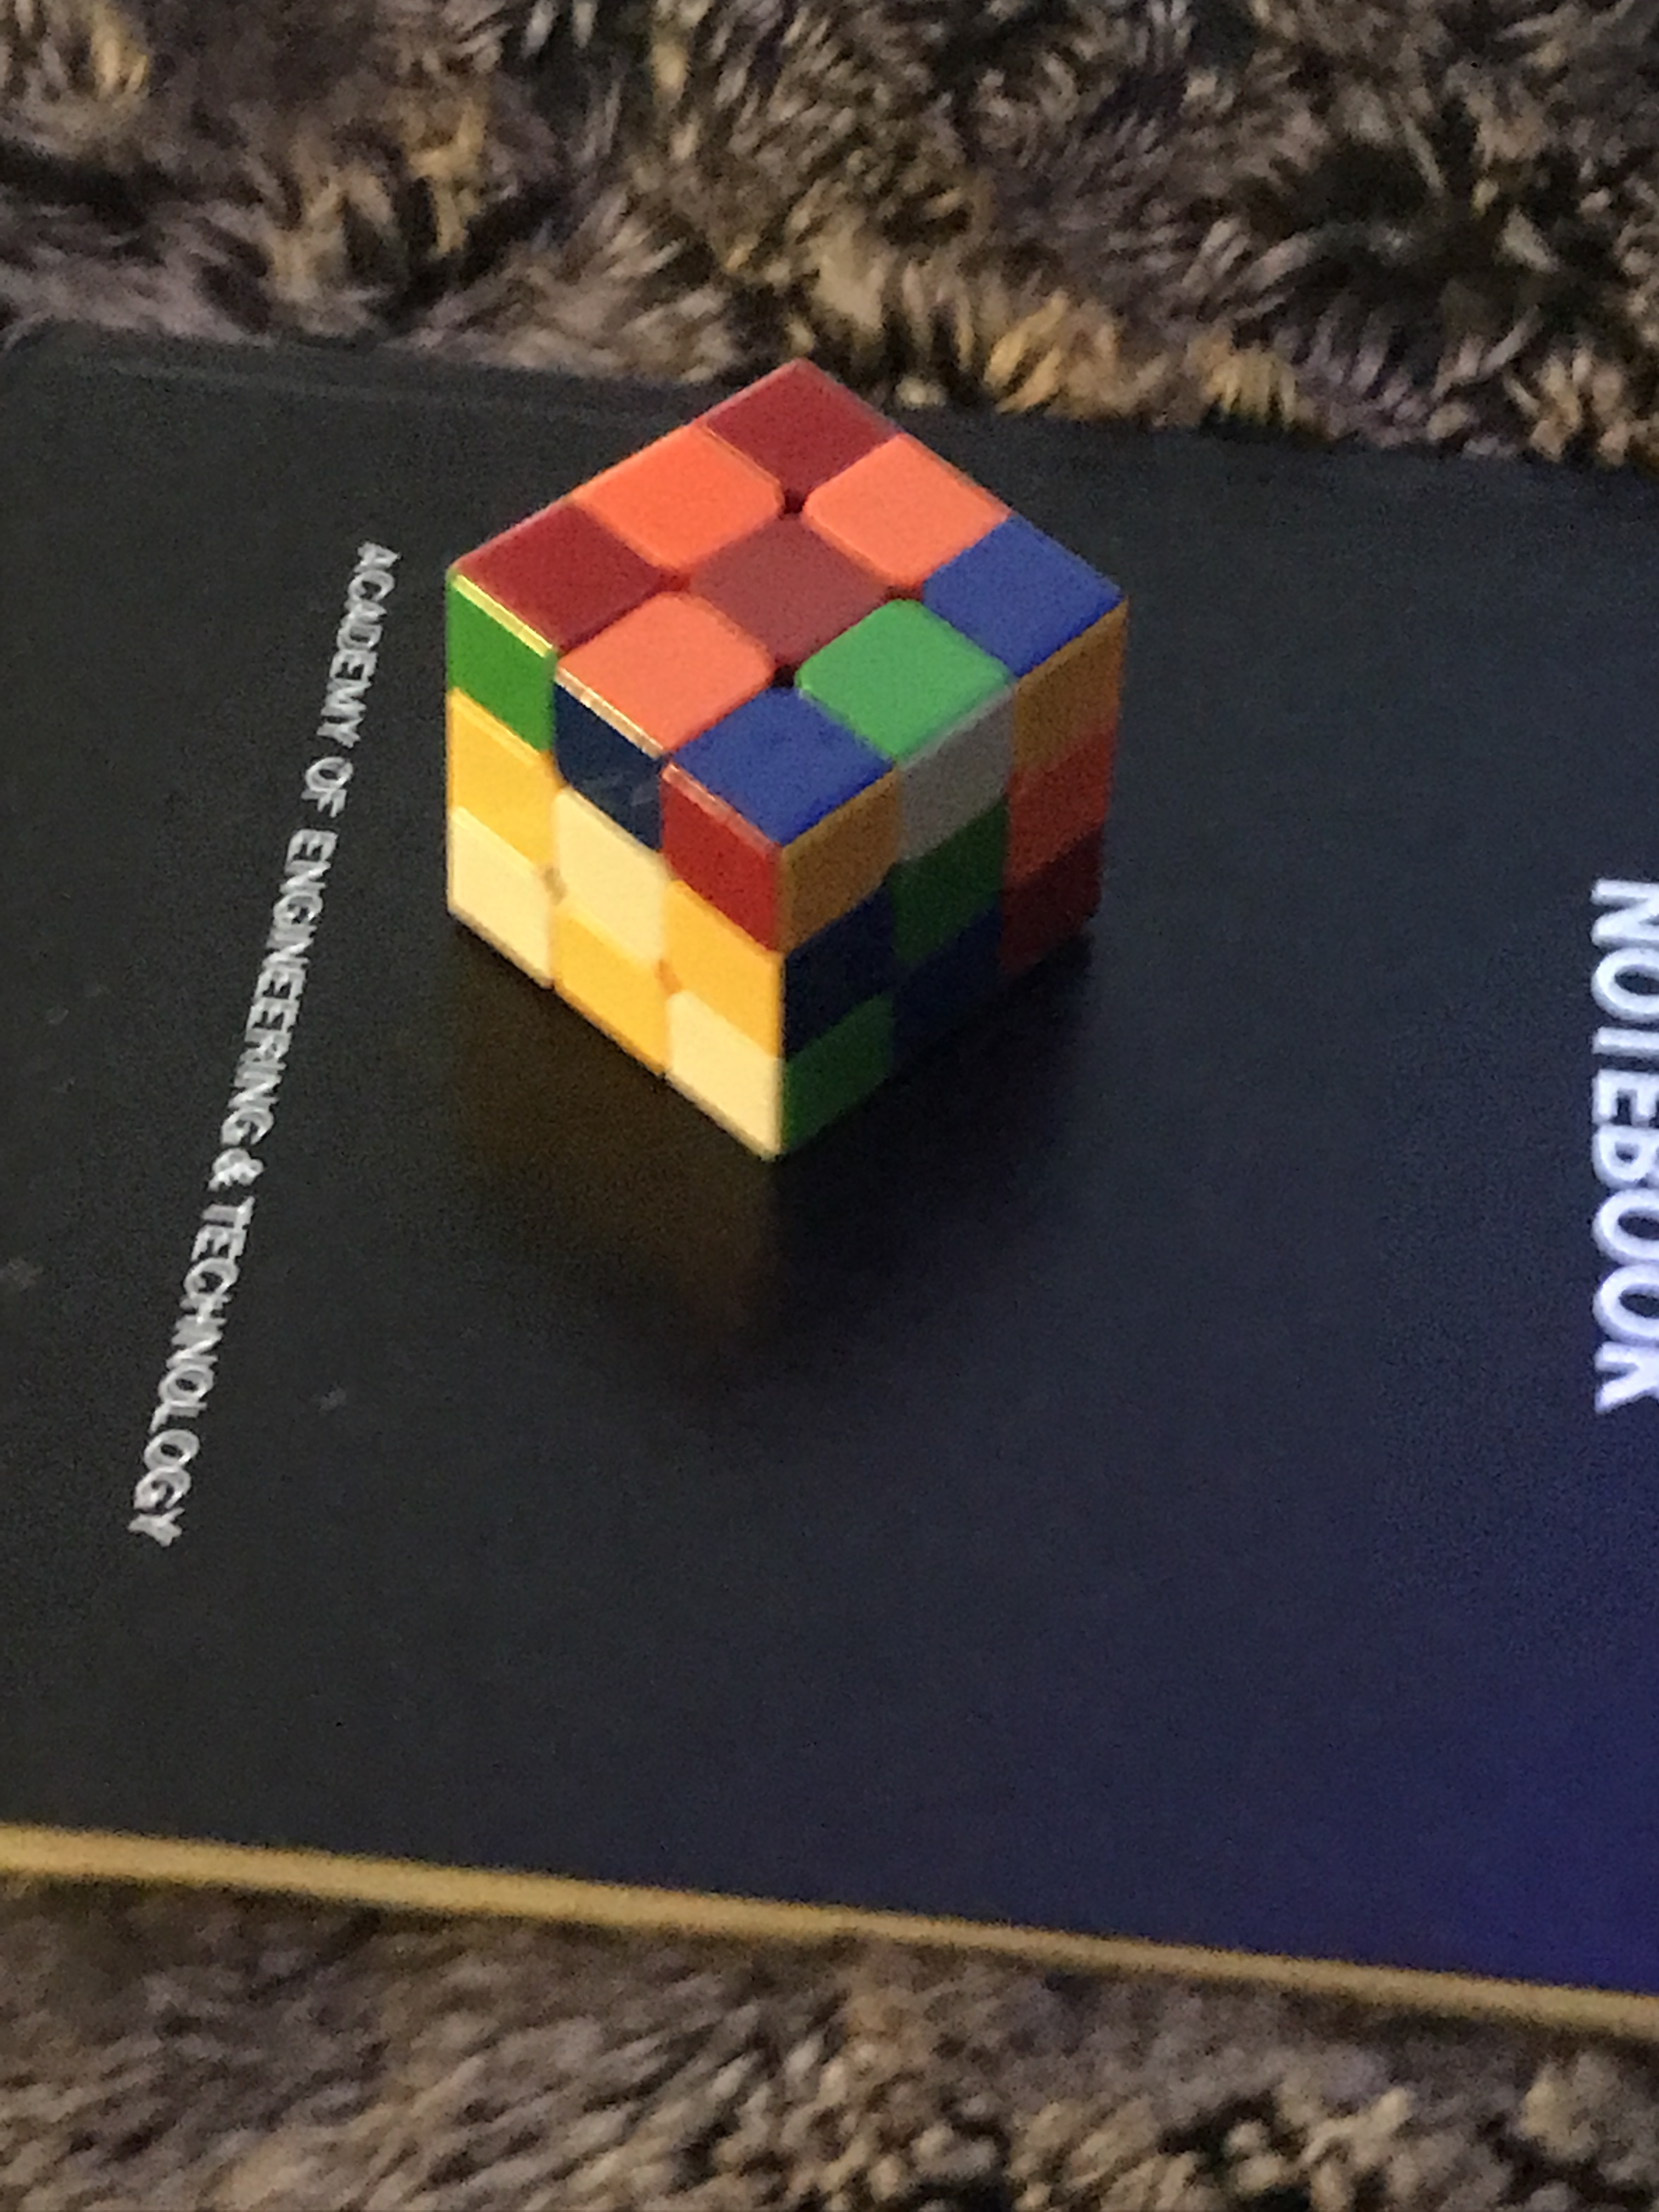rubiks: (448, 357, 1115, 1176)
